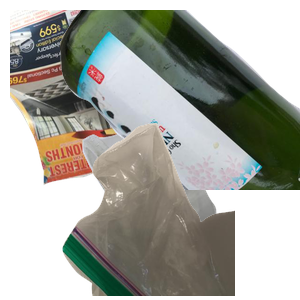glass: (60, 10, 300, 190)
paper: (10, 10, 230, 188)
plastic: (80, 120, 289, 300)
trash: (60, 120, 300, 300)
